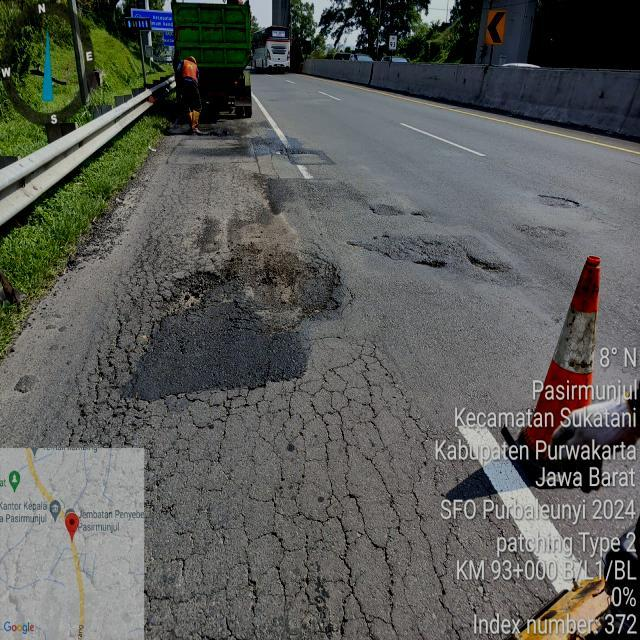Buraco: (155, 250, 345, 334), (463, 252, 515, 276), (535, 193, 583, 210), (409, 211, 428, 220), (273, 148, 285, 156)
